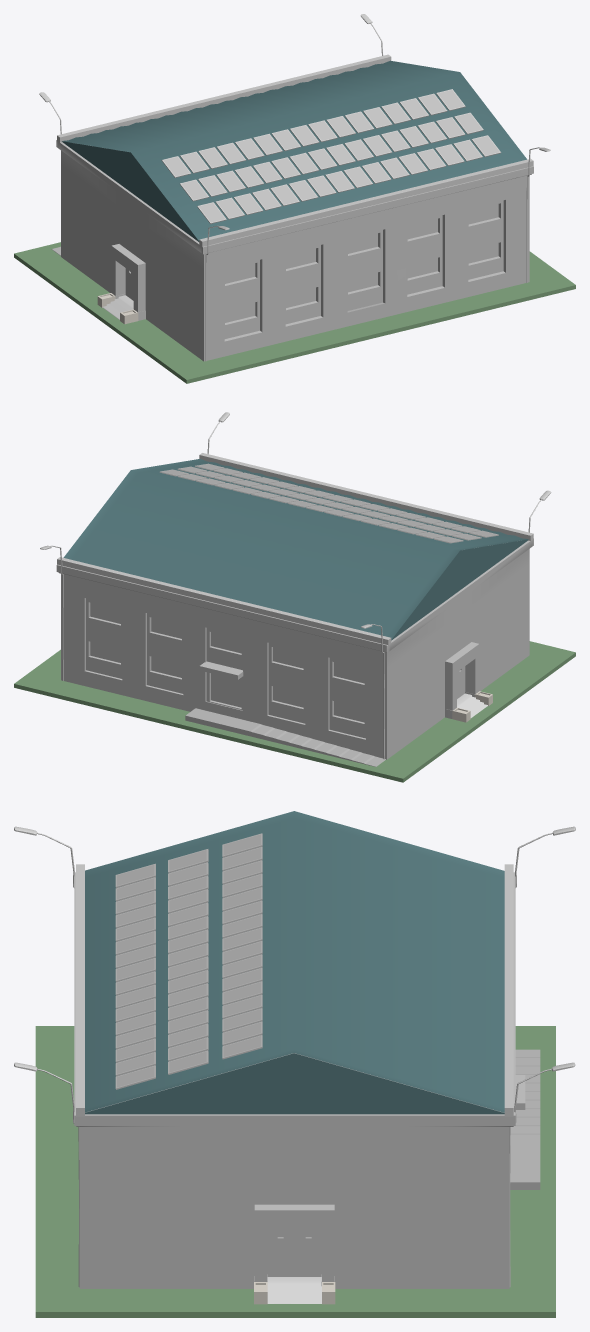
File: Workshop.fbx
3 views of the same model, one above another, from view 1: azimuth 30°, elevation 25°; view 2: azimuth 150°, elevation 25°; view 3: azimuth 270°, elevation 25° (orthographic). The views are drawn at different scales.
Visible parts, largest first — view 1: IIT__front_Building04:IIT__front_Building04:polySurface298; view 2: IIT__front_Building04:IIT__front_Building04:polySurface298; view 3: IIT__front_Building04:IIT__front_Building04:polySurface298.
Boxes of the visible parts, x1,y1,x2,y2 form: IIT__front_Building04:IIT__front_Building04:polySurface298: (14,54,575,383); IIT__front_Building04:IIT__front_Building04:polySurface298: (14,453,575,782); IIT__front_Building04:IIT__front_Building04:polySurface298: (35,811,555,1317).
Bounding box in the file's own units: 8.89 × 3.53 × 7.38.
